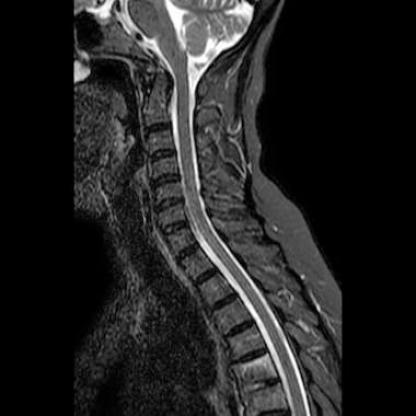Disc Bulgerotation: (151, 195, 185, 213), (149, 172, 181, 188), (159, 221, 189, 236)
